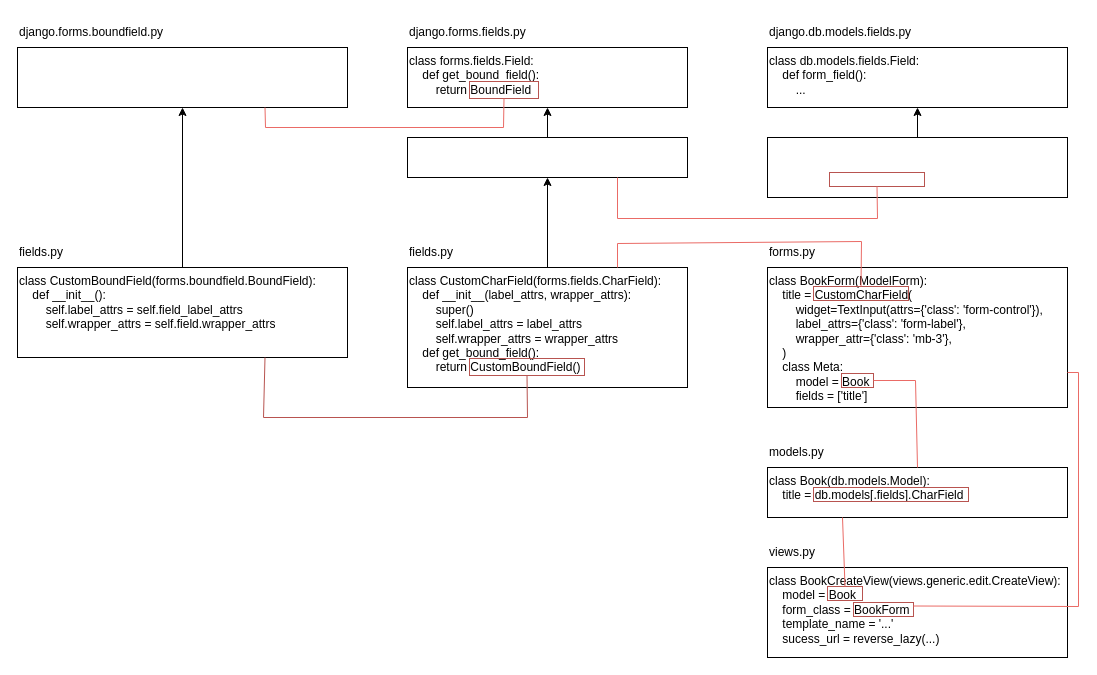
Image size: 1097x675. Some labels were removed from this diagram. The shapes that lost their labels are listed below. From the top down, each one's box as (x1, y1, x2, y2) in pixels, then its label:
(16, 46, 348, 108): class forms.boundfield.BoundField: ...
(406, 136, 688, 178): class forms.fields.CharField: ...
(766, 136, 1068, 198): class db.models.fields.CharField: def form_field(): return forms.CharField
